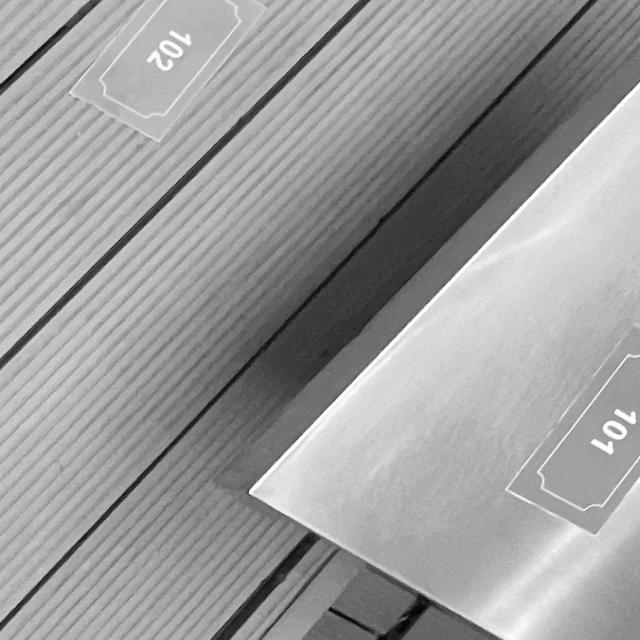Card: (488, 291, 640, 556), (62, 0, 272, 152)
